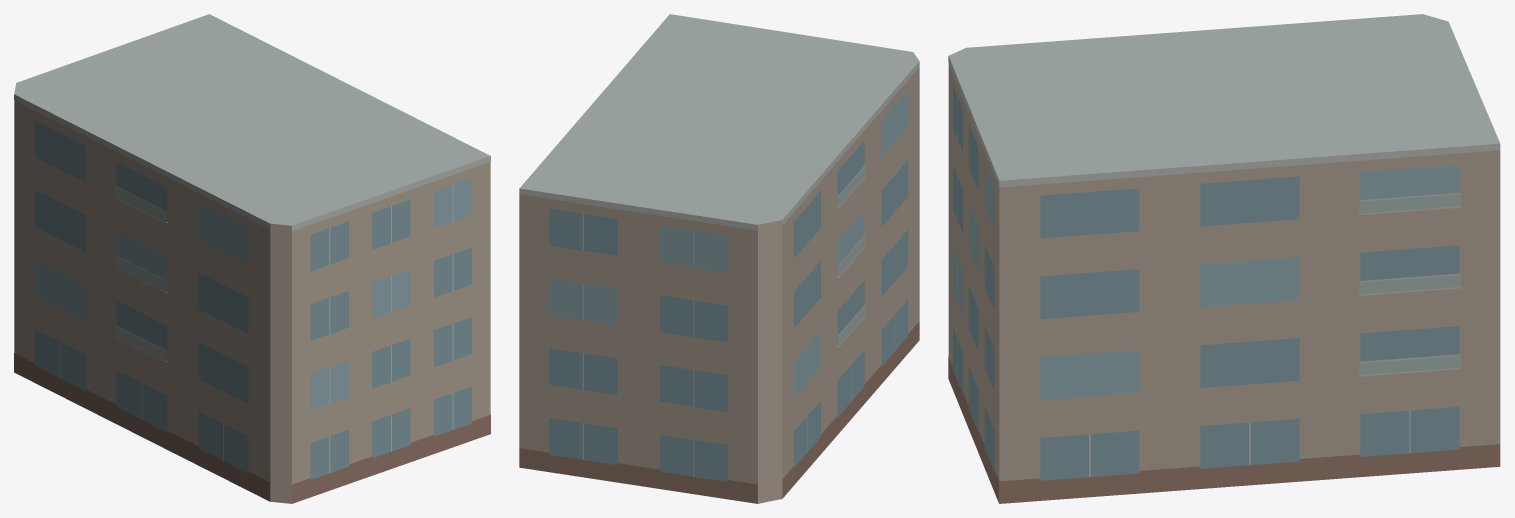
The model's file is survey-upis-32619408.glb.
3 renders of one model, left to right at view 1: azimuth 30°, elevation 25°; view 2: azimuth 150°, elevation 25°; view 3: azimuth 270°, elevation 25°, orthographic. The views are drawn at different scales.
Parts seen in each view (by area): view 1: survey-upis-32619408.tmp; view 2: survey-upis-32619408.tmp; view 3: survey-upis-32619408.tmp.
Boxes of the visible parts, x1,y1,x2,y2 form: survey-upis-32619408.tmp: (14, 14, 490, 503); survey-upis-32619408.tmp: (519, 14, 919, 503); survey-upis-32619408.tmp: (948, 14, 1500, 503).
Size of the model in its own units: 12.99 by 11.72 by 18.15.
